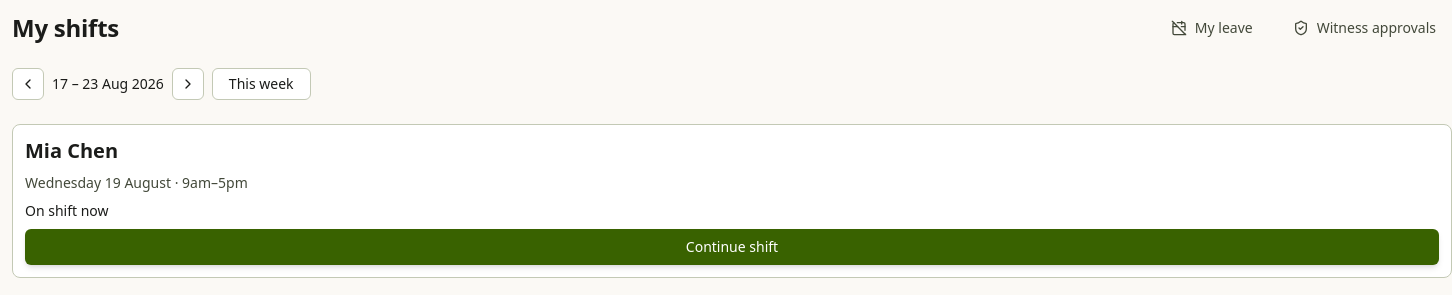
it: PortalShiftsPage: the current shift leads (SHAPE §2) › shows no card on another week
What coordinates should you click on to do the following:
click the button named "Next week"
I would click on:
 (188, 84)
Its box is x1=172 y1=68 x2=204 y2=100.
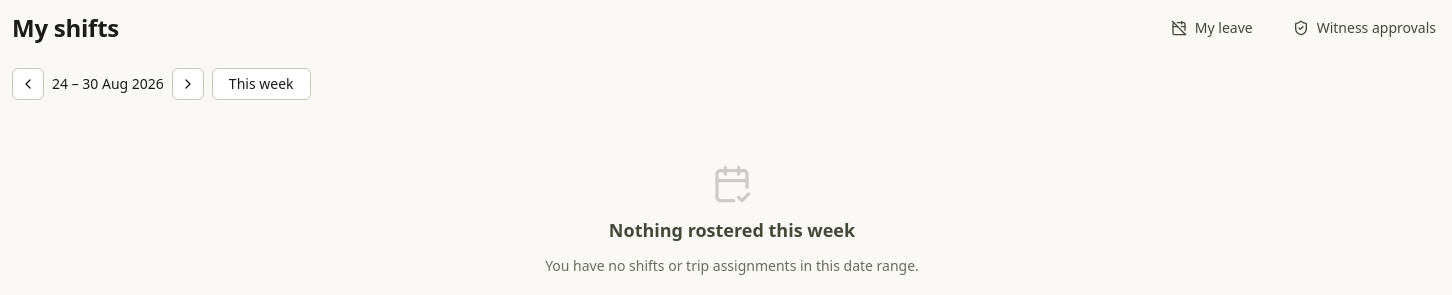
Expected: the text "On shift now" is gone
